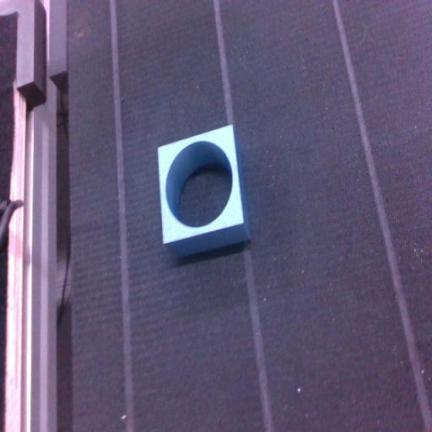hole: (158, 125, 249, 255)
